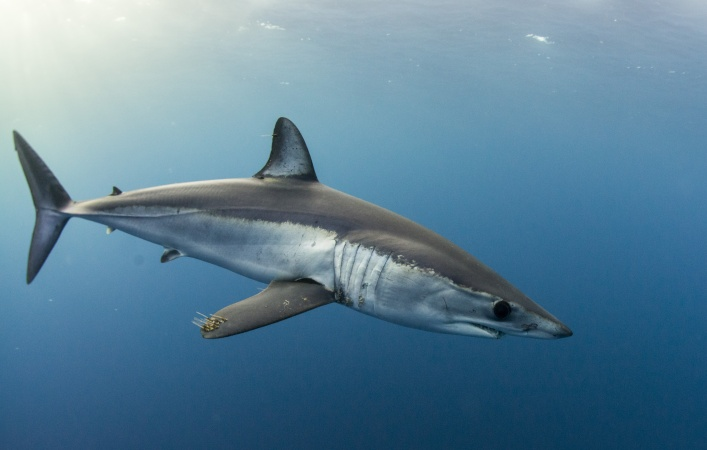Mako: (9, 115, 577, 368)
